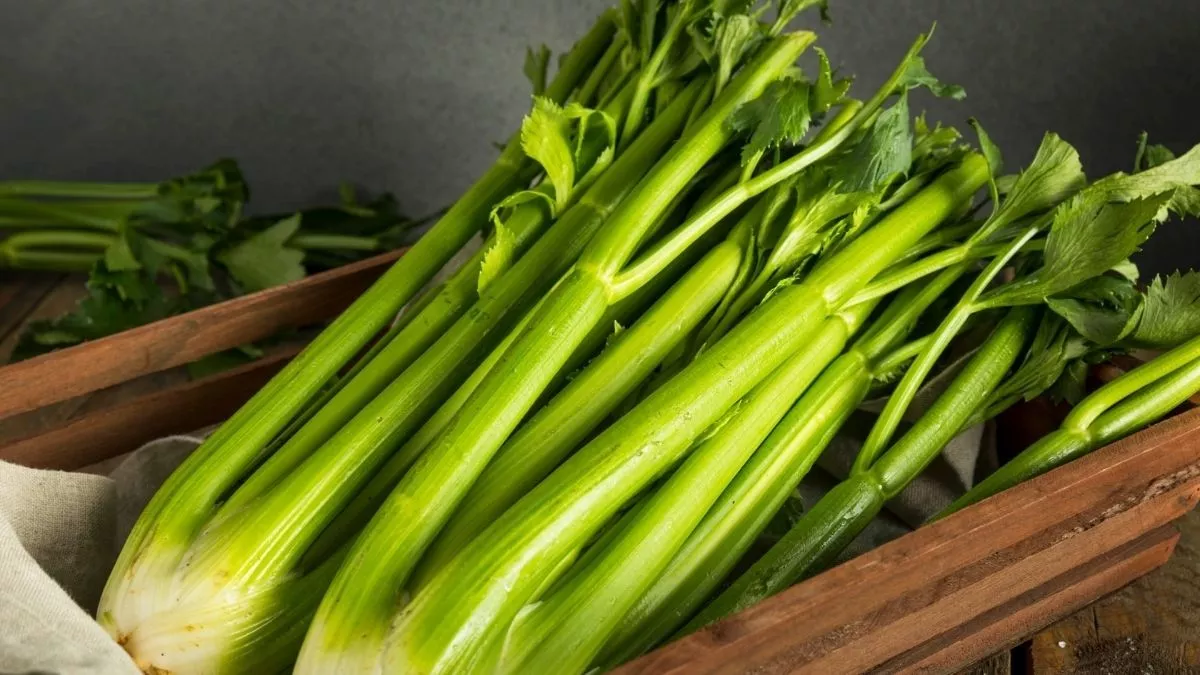Seledri: (184, 6, 1200, 674)
